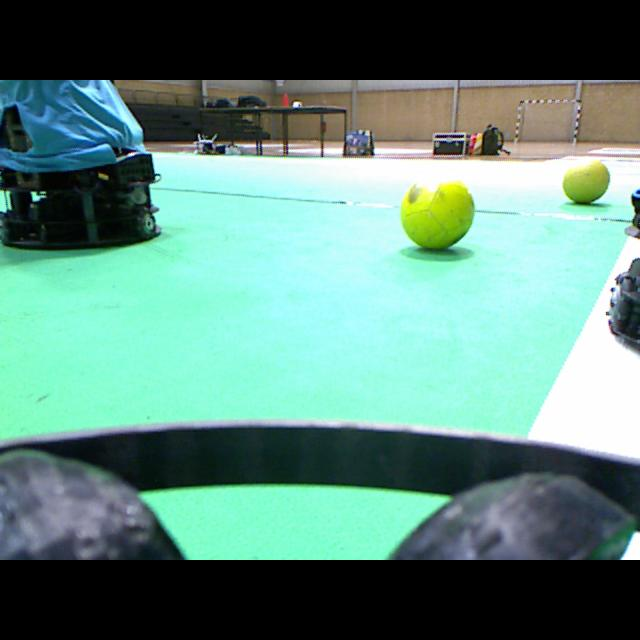ball: (400, 181, 473, 248), (562, 161, 609, 203)
